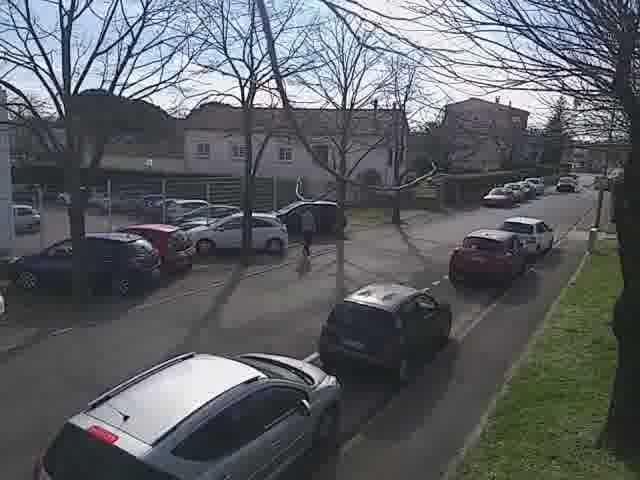persona: (292, 200, 322, 261)
